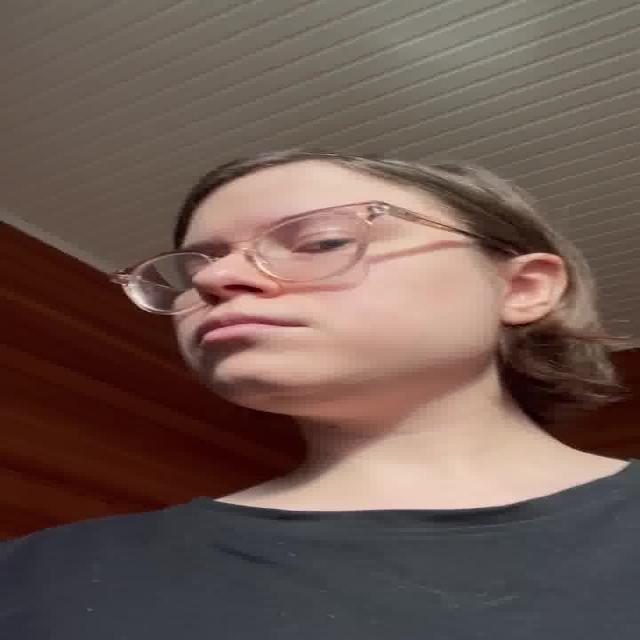earlobe: (504, 302, 540, 326)
eye: (290, 233, 362, 256)
nose: (198, 294, 275, 314)
wholeear: (504, 253, 566, 325)
